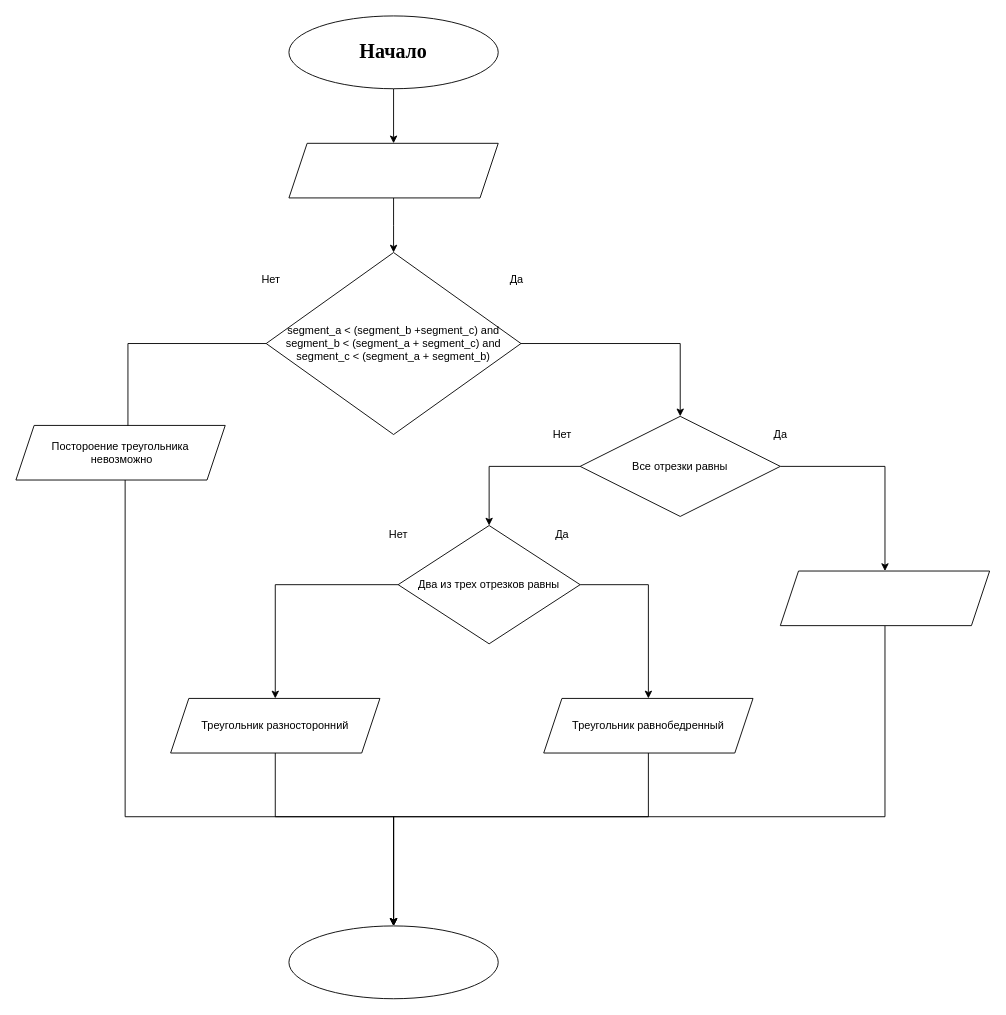
Some shapes in this 1006 by 1015 pixel diagram are drawn without their labels. The centre of each missing label's shape, as x and y in pixels:
"Конец" belongs at pixel 393 962.
"Получение отрезков от пользователя segment_a, segment_b, segment_c" belongs at pixel 393 170.
"Треугольник равносторонний" belongs at pixel 884 598.
